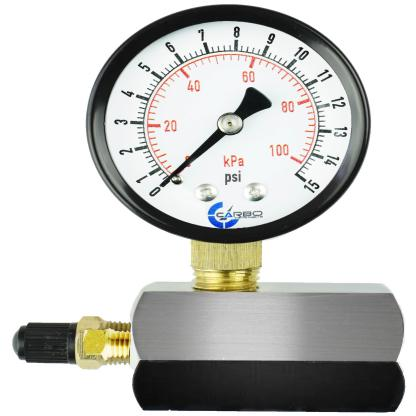needle: (158, 128, 227, 188)
